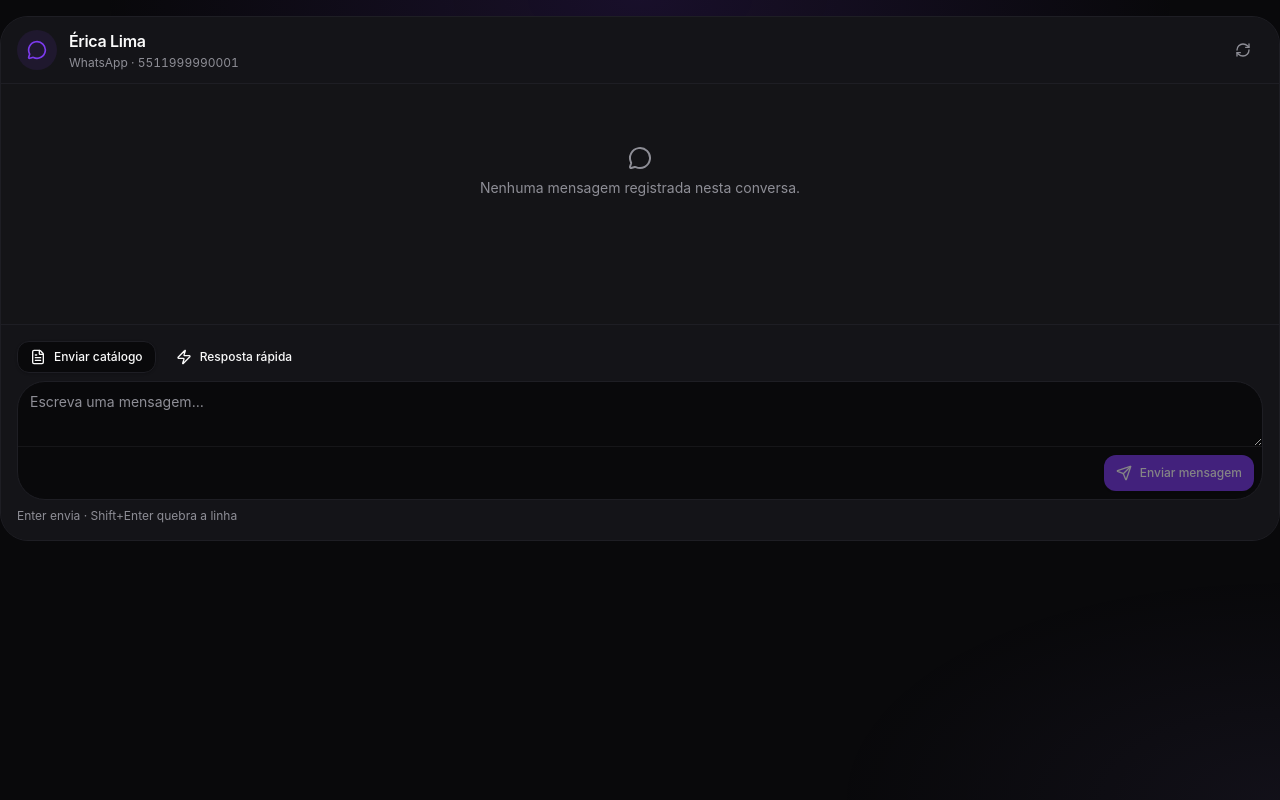
Scenario: personaliza a resposta rápida sem enviar ou substituir um rascunho
Later steps or results of the test are not shown.
Expected: the text "Nenhuma mensagem registrada nesta conversa." is shown, [480,178,800,198]
Click the button "Resposta rápida". click: (234, 357)
box: [164,341,304,373]
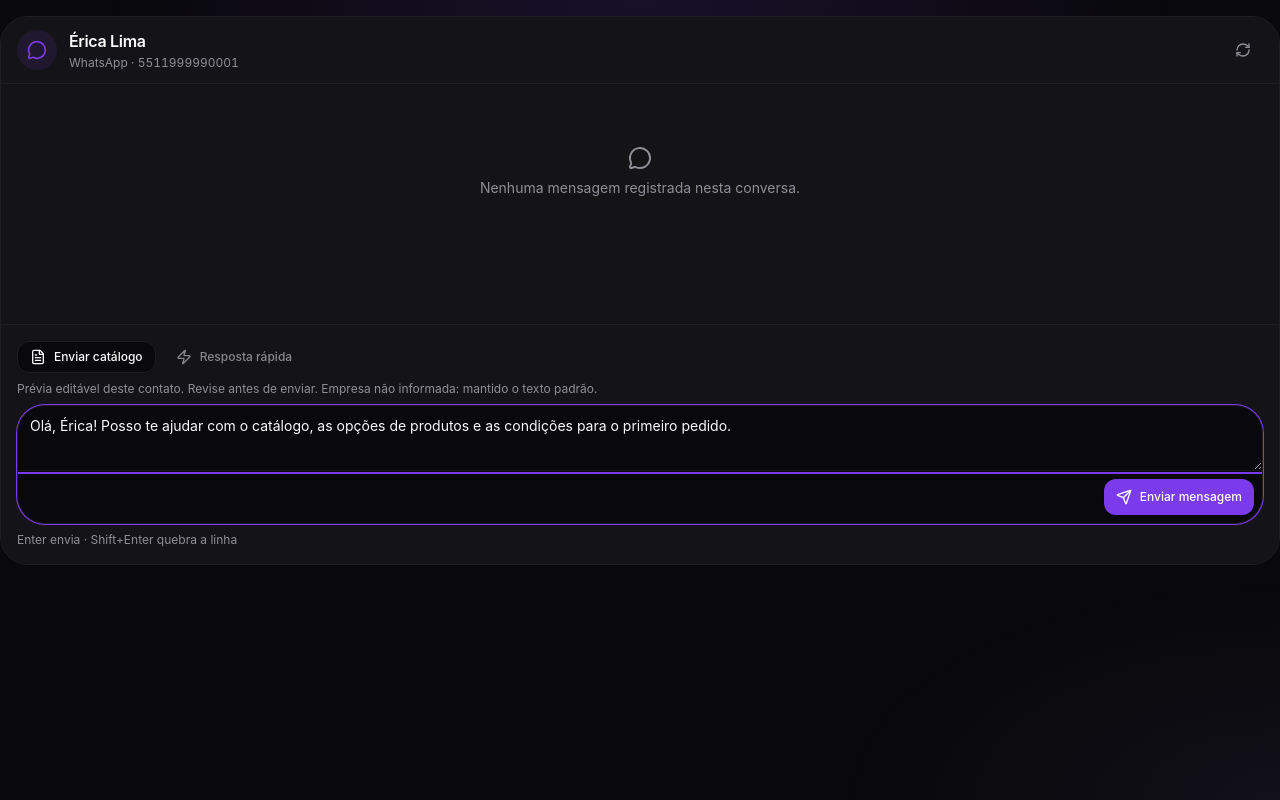
Replace the text in the text box named "Sua mensagem" with "Rascunho próprio". click: (640, 438)
box: [18,406,1262,470]
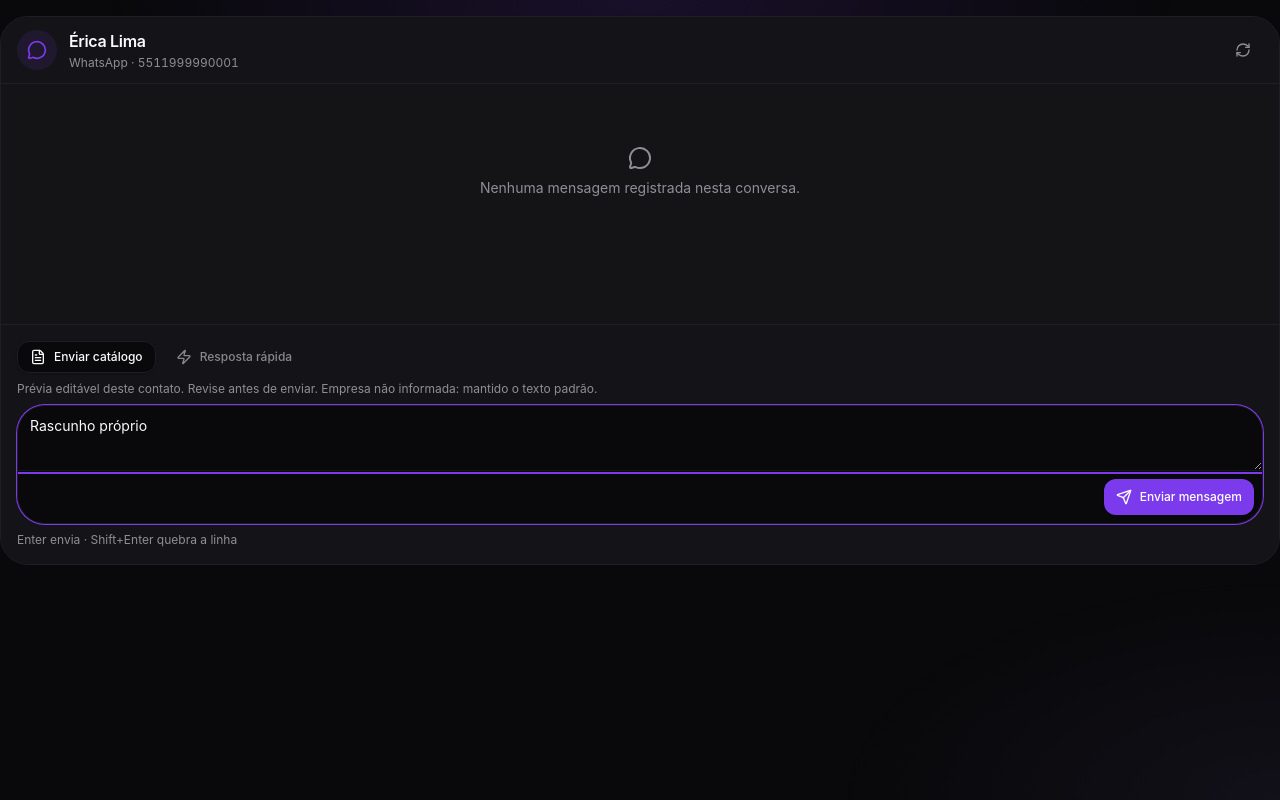
Now the button "Resposta rápida" is disabled, box [164,341,304,373]
